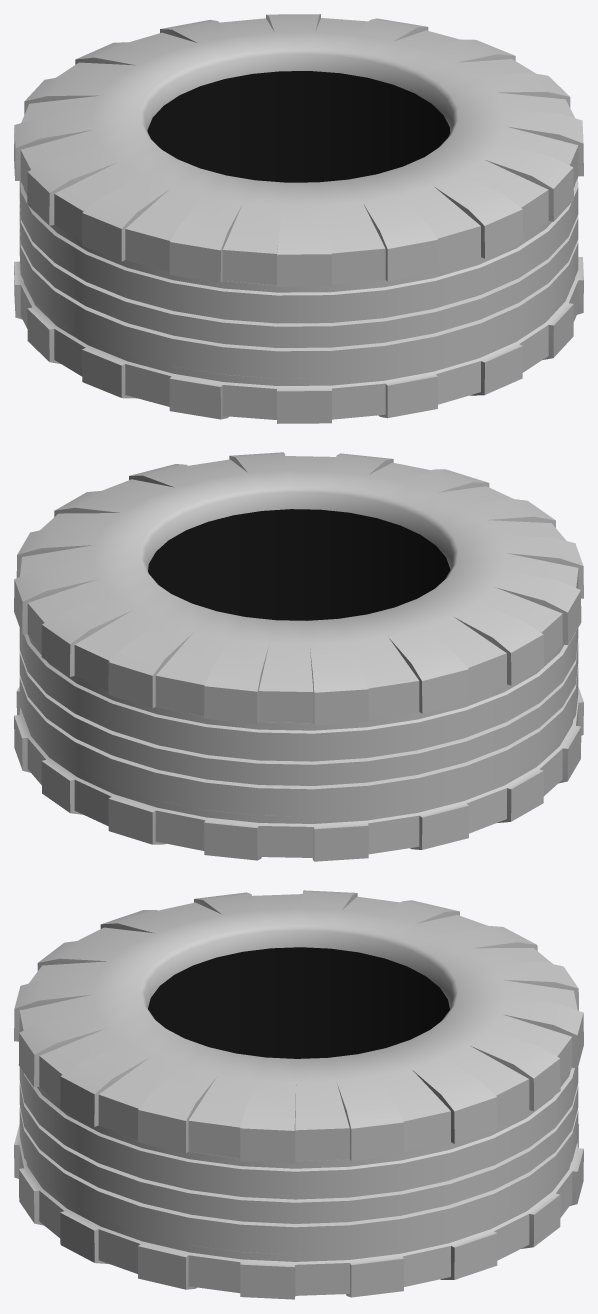
The model's file is tire.fbx.
The picture shows the model from 3 angles, top to bottom: view 1: azimuth 30°, elevation 25°; view 2: azimuth 150°, elevation 25°; view 3: azimuth 270°, elevation 25°; orthographic projection.
Parts seen in each view (by area): view 1: tire; view 2: tire; view 3: tire.
Part boxes in pixels (x1,y1,x2,y2): tire: (14, 14, 583, 423); tire: (14, 452, 583, 861); tire: (14, 890, 583, 1299).
Size of the model in its own units: 40.76 by 16.31 by 40.76.
